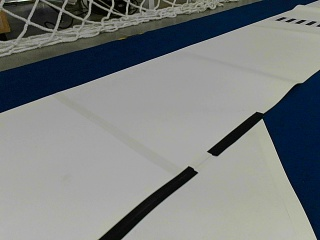crosswalk: (276, 15, 319, 26)
